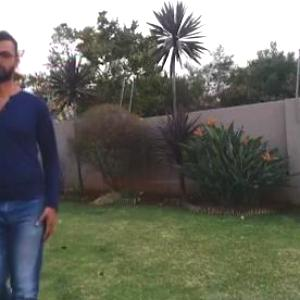follow: (1, 46, 54, 299)
